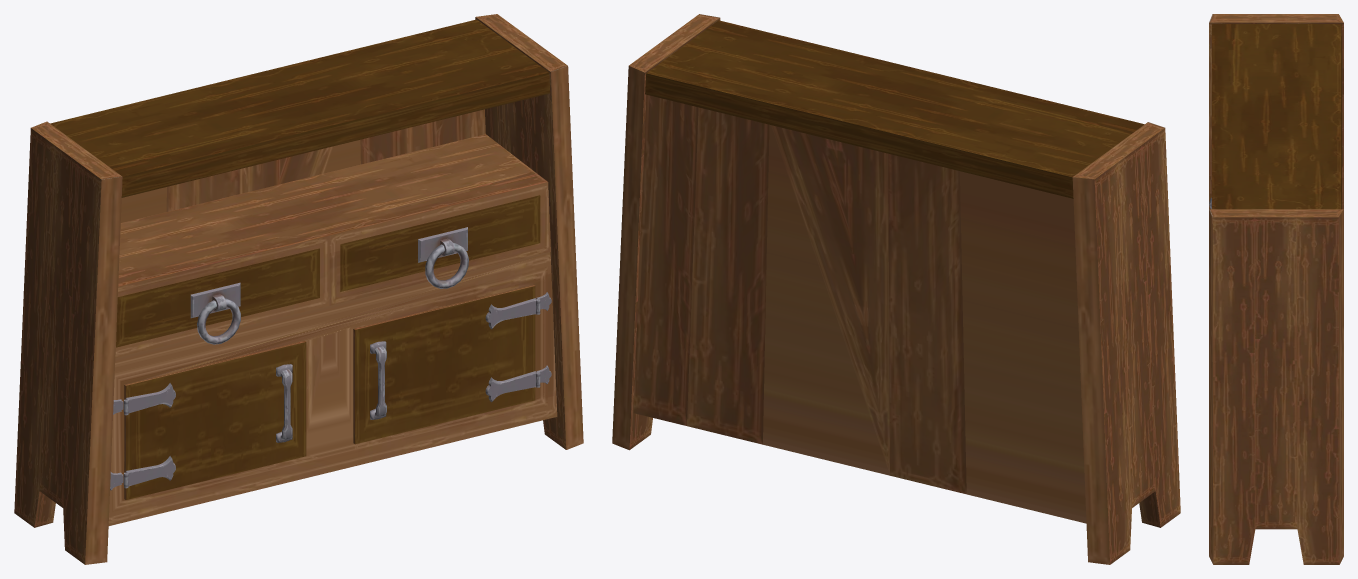
File: Cabinet.glb
The picture shows the model from 3 angles, left to right: view 1: azimuth 30°, elevation 25°; view 2: azimuth 150°, elevation 25°; view 3: azimuth 270°, elevation 25°; orthographic projection. The views are drawn at different scales.
Parts seen in each view (by area): view 1: Cabinet; view 2: Cabinet; view 3: Cabinet.
Boxes of the visible parts, x1,y1,x2,y2 form: Cabinet: [14, 14, 583, 564]; Cabinet: [612, 14, 1180, 564]; Cabinet: [1209, 14, 1343, 564].
Size of the model in its own units: 1.36 by 0.9974 by 0.3571.
2 materials, 2 textured.
